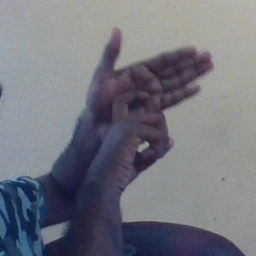R: (75, 24, 219, 191)
